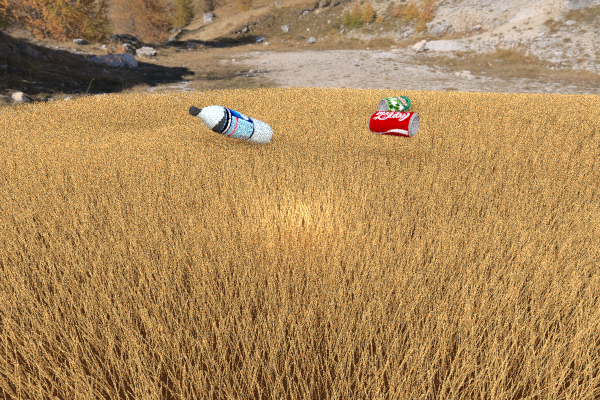bottle: (188, 105, 273, 145)
can: (368, 110, 419, 137), (378, 96, 411, 114)
